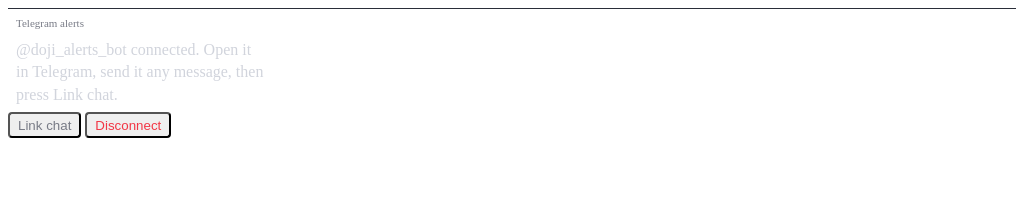
Test: Should link the chat once the user wrote to the bot, and say when nobody has yet
Click the button "Link chat" at (45, 125), box [8,112,81,138]
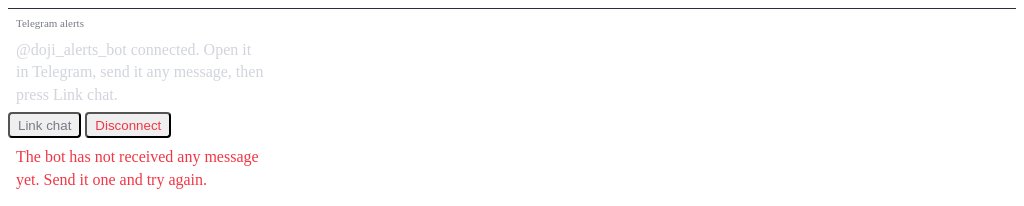
expect the message reads "The bot has not received any message yet. Send it one and try again.": met, box [16,148,259,188]
Click the button "Link chat" at (45, 125), box [8,112,81,138]
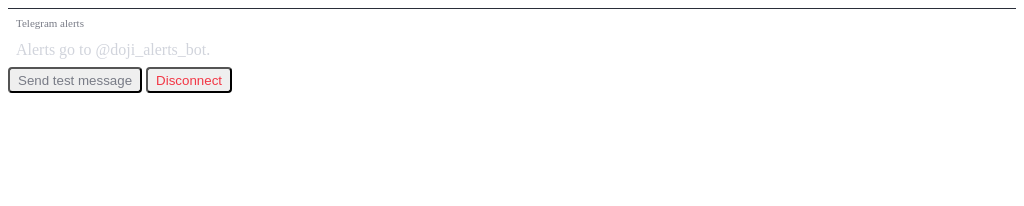
expect the text "Alerts go to @doji_alerts_bot." is shown: met, box [16,41,210,58]
